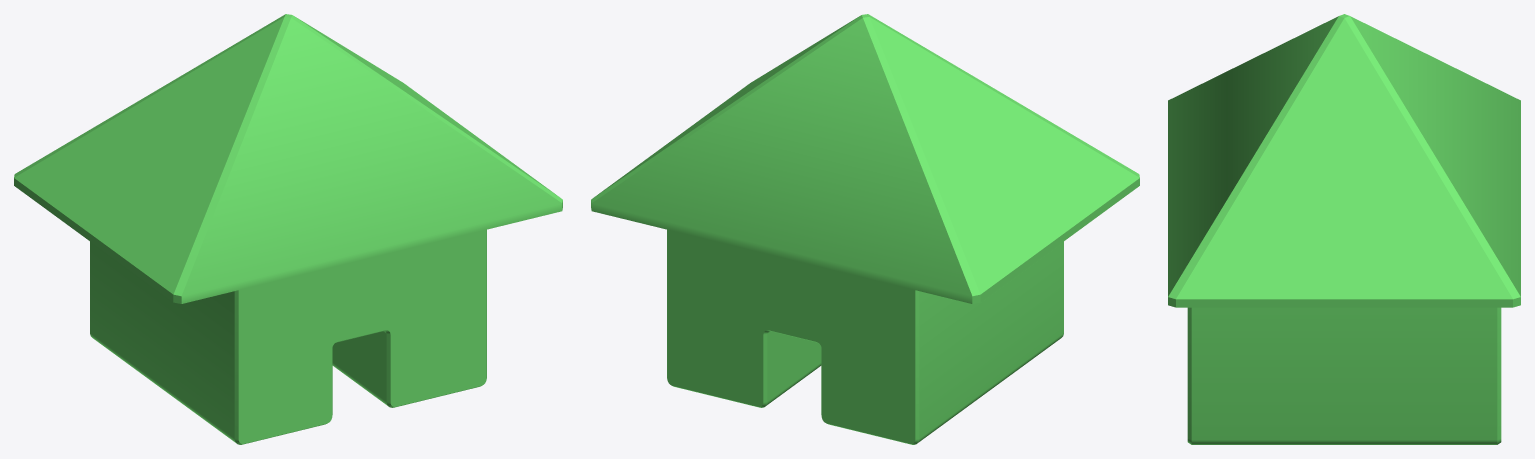
File: TimelineElement_Home.dae
3 views of the same model, side by side, from view 1: azimuth 30°, elevation 25°; view 2: azimuth 150°, elevation 25°; view 3: azimuth 270°, elevation 25° (orthographic). The views are drawn at different scales.
Parts seen in each view (by area): view 1: Line001; view 2: Line001; view 3: Line001.
Boxes of the visible parts, x1,y1,x2,y2 form: Line001: [14, 14, 562, 444]; Line001: [591, 14, 1139, 444]; Line001: [1168, 14, 1520, 444].
Bounding box in the file's own units: 0.8964 × 0.6652 × 0.7631.
